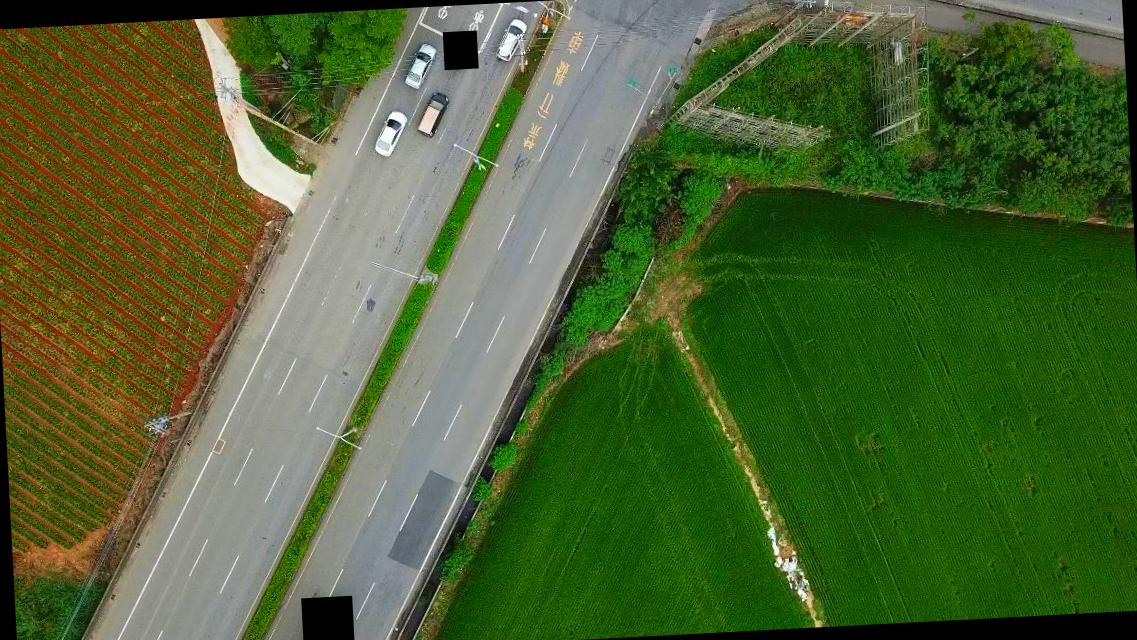vehicle: (400, 44, 438, 92), (370, 110, 407, 159), (492, 18, 528, 62), (416, 93, 448, 141)
